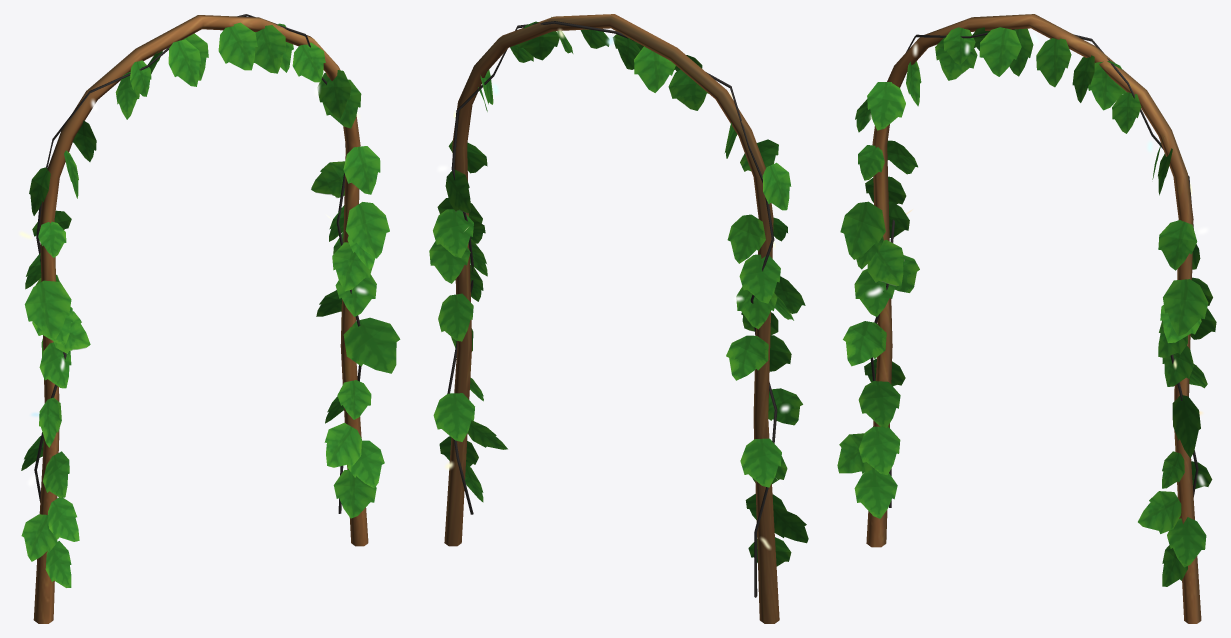
3 views of the same model, side by side, from view 1: azimuth 30°, elevation 25°; view 2: azimuth 150°, elevation 25°; view 3: azimuth 330°, elevation 25° (orthographic).
Parts seen in each view (by area): view 1: pergola; view 2: pergola; view 3: pergola.
Boxes of the visible parts, box(x1,y1,x2,y2) form: pergola: box(19, 14, 400, 623); pergola: box(429, 14, 808, 623); pergola: box(837, 14, 1216, 623).
Bounding box in the file's own units: 0.00685 × 0.01 × 0.00117.
1 material, 1 textured.
